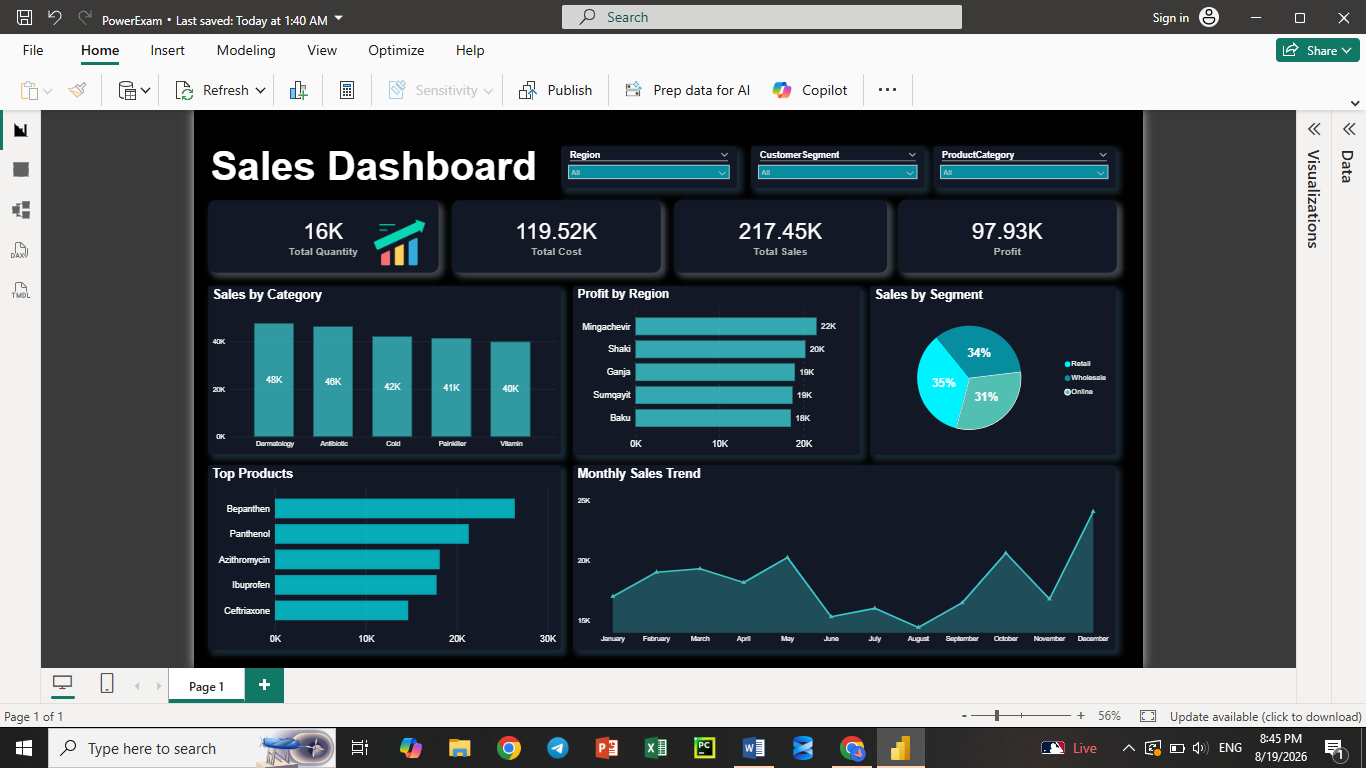

What the dashboard file says about the page in this screenshot:
{"tool":"powerbi","page":{"name":"Page 1","canvas":[1700,1000],"ordinal":0},"visuals":[{"type":"card","fields":{"Values":["Sheet1.Total Cost"]},"box":[462.6,161.4,374,129.9],"z":0},{"type":"card","fields":{"Values":["Sheet1.Profit"]},"box":[1261.8,161.4,391.7,129.9],"z":1},{"type":"card","fields":{"Values":["Sheet1.Total Quantity"]},"box":[25.6,161.4,413.4,129.9],"z":2},{"type":"card","fields":{"Values":["Sheet1.Total Sales"]},"box":[860.2,161.4,381.9,129.9],"z":3},{"type":"slicer","fields":{"Values":["Sheet1.Region"]},"box":[657.5,65,315,74.8],"z":4},{"type":"slicer","fields":{"Values":["Sheet1.CustomerSegment"]},"box":[998,65,311,74.8],"z":5},{"type":"slicer","fields":{"Values":["Sheet1.ProductCategory"]},"box":[1324.8,65,326.8,74.8],"z":6},{"type":"clusteredColumnChart","title":"Sales by Category","fields":{"Category":["Sheet1.ProductCategory"],"Y":["Sheet1.Total Sales"]},"box":[25.6,315,631.9,301.2],"z":7},{"type":"lineChart","title":"Monthly Sales Trend","fields":{"Category":["Sheet1.Date.Variation.Date Hierarchy.Month"],"Y":["Sheet1.Total Sales"]},"box":[679.1,635.8,972.4,330.7],"z":9},{"type":"barChart","title":"Top Products","fields":{"Category":["Sheet1.Product"],"Y":["Sheet1.Total Sales"]},"box":[25.6,635.8,631.9,330.7],"z":10},{"type":"pieChart","title":"Sales by Segment","fields":{"Category":["Sheet1.CustomerSegment"],"Y":["Sheet1.Total Sales"]},"box":[1210.6,315,440.9,303.1],"z":11},{"type":"clusteredBarChart","fields":{"Category":["Sheet1.Region"],"Y":["Sheet1.Profit"]},"box":[679.1,315,513.8,303.1],"z":12},{"type":"textbox","box":[25.6,39.4,631.9,122],"z":13},{"type":"image","box":[316.9,187,102.4,102.4],"z":14}]}

Visuals, with their boxes on the page's 1700x1000 design canvas (x1, y1, x2, y2). These are canvas units, not pixel positions in the 1366x768 screenshot, which may show the page scaled, cropped or inside an application window:
card - Sheet1.Total Cost: 463,161,837,291
card - Sheet1.Profit: 1262,161,1654,291
card - Sheet1.Total Quantity: 26,161,439,291
card - Sheet1.Total Sales: 860,161,1242,291
slicer - Sheet1.Region: 658,65,972,140
slicer - Sheet1.CustomerSegment: 998,65,1309,140
slicer - Sheet1.ProductCategory: 1325,65,1652,140
"Sales by Category" clusteredColumnChart: 26,315,658,616
"Monthly Sales Trend" lineChart: 679,636,1652,966
"Top Products" barChart: 26,636,658,966
"Sales by Segment" pieChart: 1211,315,1652,618
clusteredBarChart - Sheet1.Region x Sheet1.Profit: 679,315,1193,618
textbox: 26,39,658,161
image: 317,187,419,289
